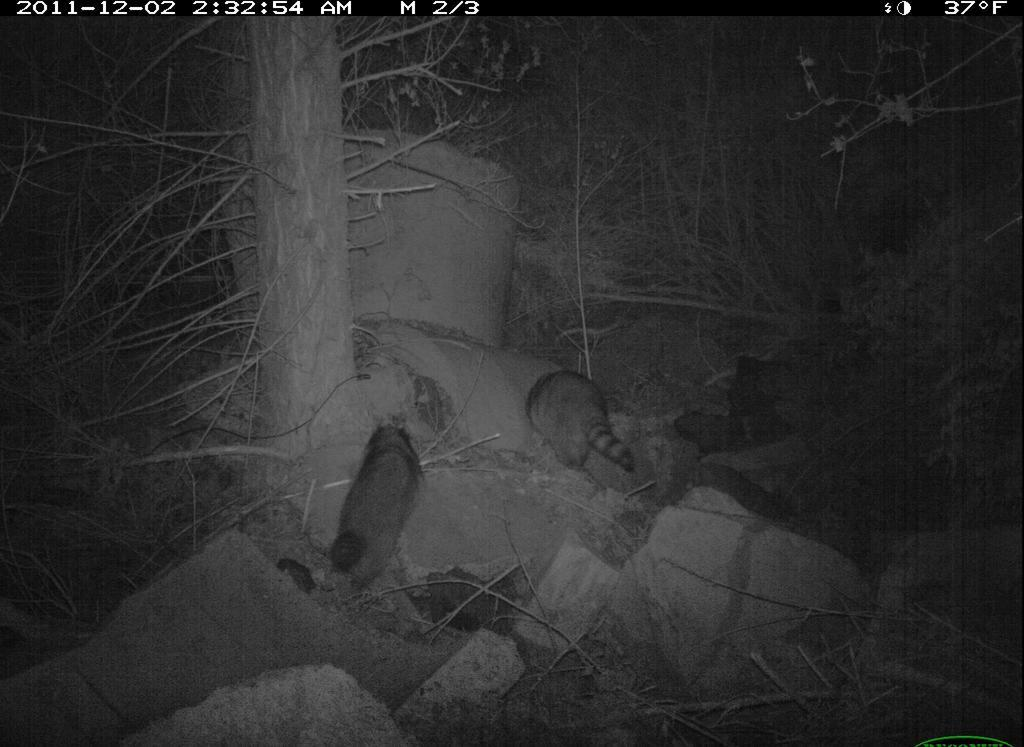raccoon: (321, 411, 432, 598), (516, 364, 644, 489)
